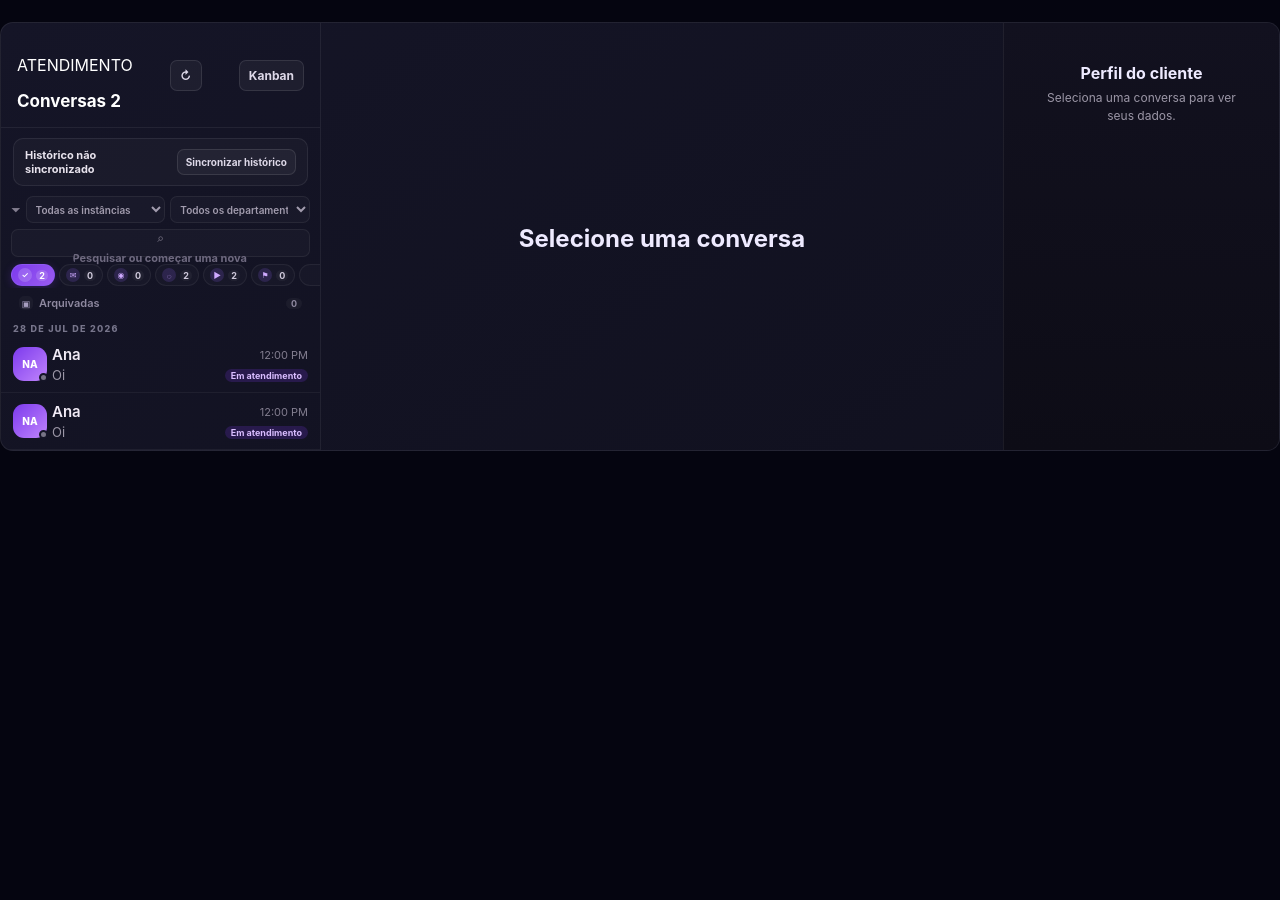
it: falha ao carregar as mensagens de uma conversa › oferece tentar de novo, e a segunda tentativa carrega
The image size is (1280, 900).
Click the 1st button "NA Ana 12:00 PM Oi Em atendimento".
click(30, 364)  # box [1,336,320,393]
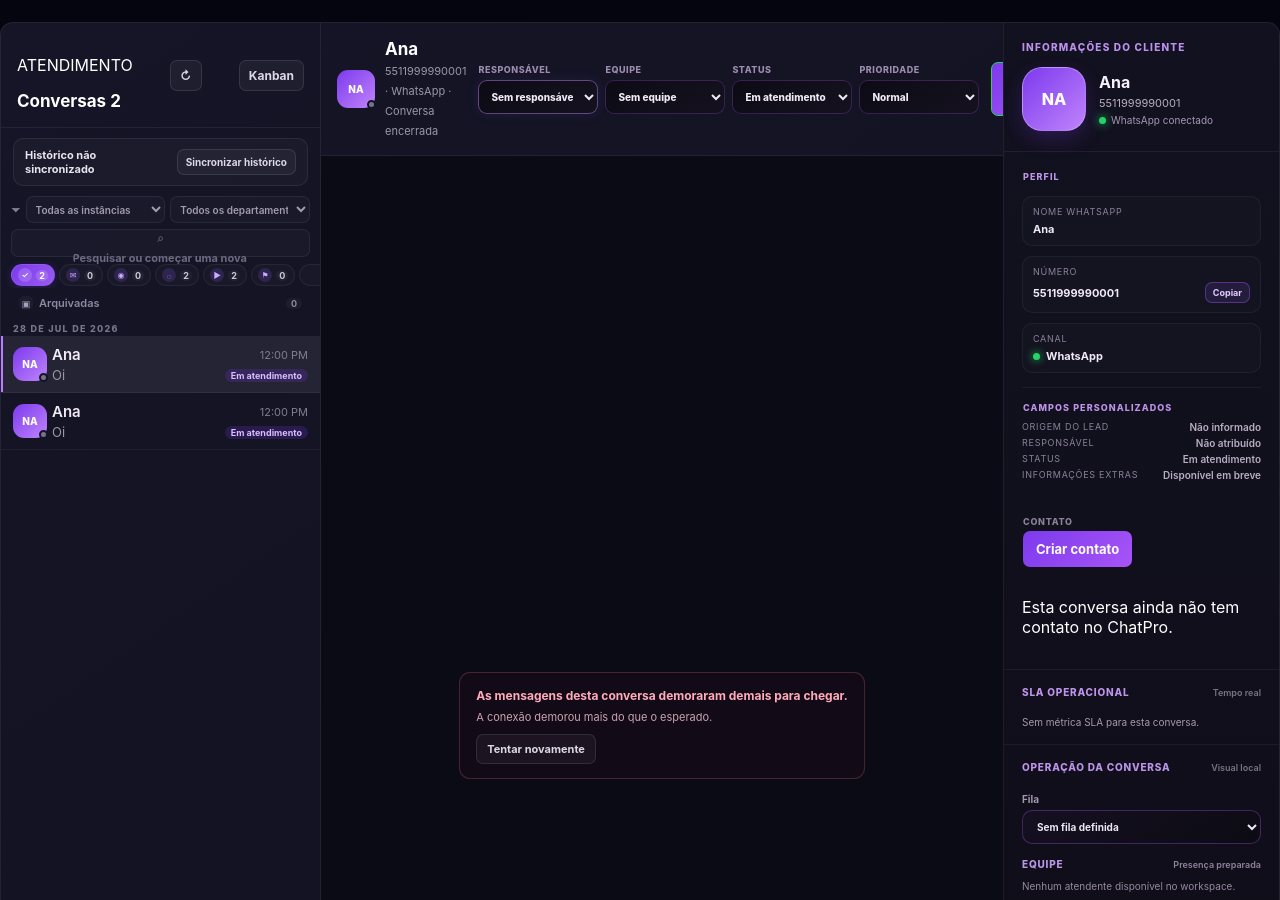
Click the button "Tentar novamente".
click(536, 749)  # box [476,734,596,764]
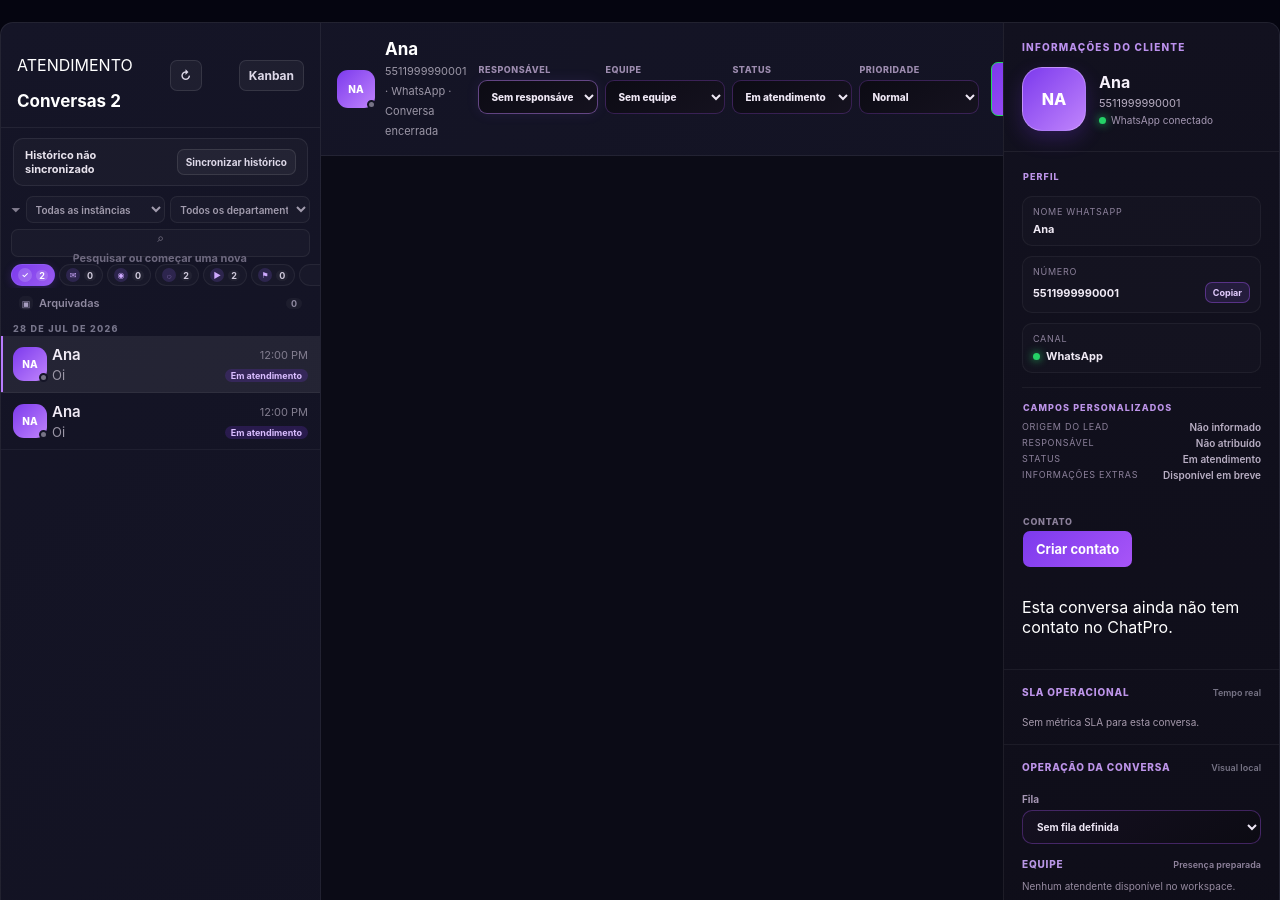
Check: the text "As mensagens desta conversa demoraram demais para chegar." is gone
Check: the button "Tentar novamente" is gone
